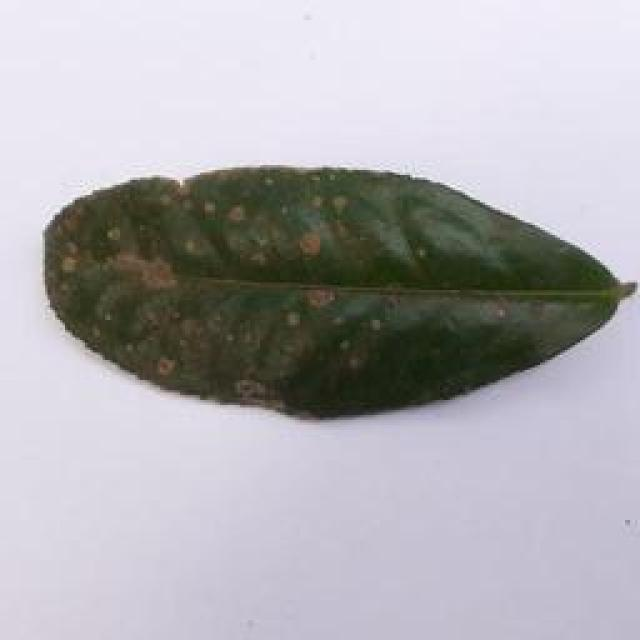Algal Leaf Spot: (35, 157, 632, 433)
